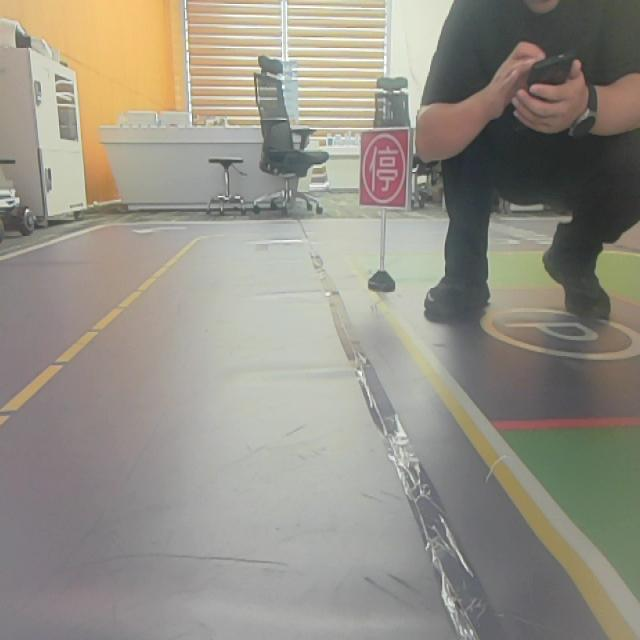left_lane: (1, 243, 194, 427)
right_lane: (353, 268, 638, 640)
